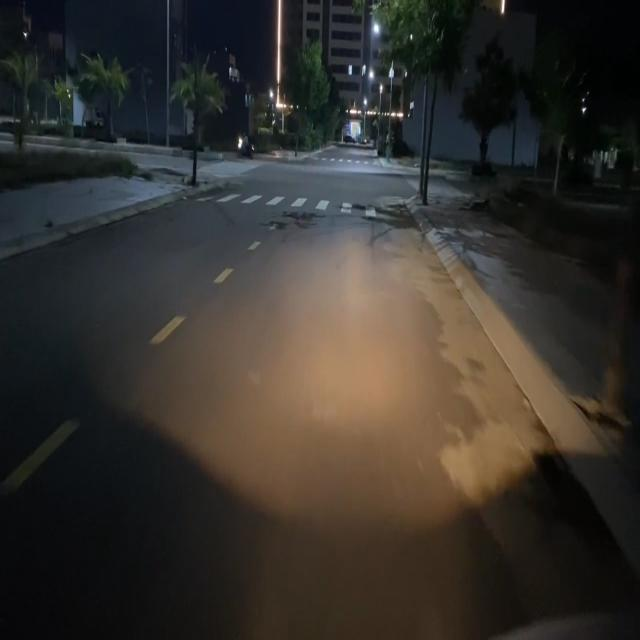walk-crossing: (187, 186, 386, 222)
